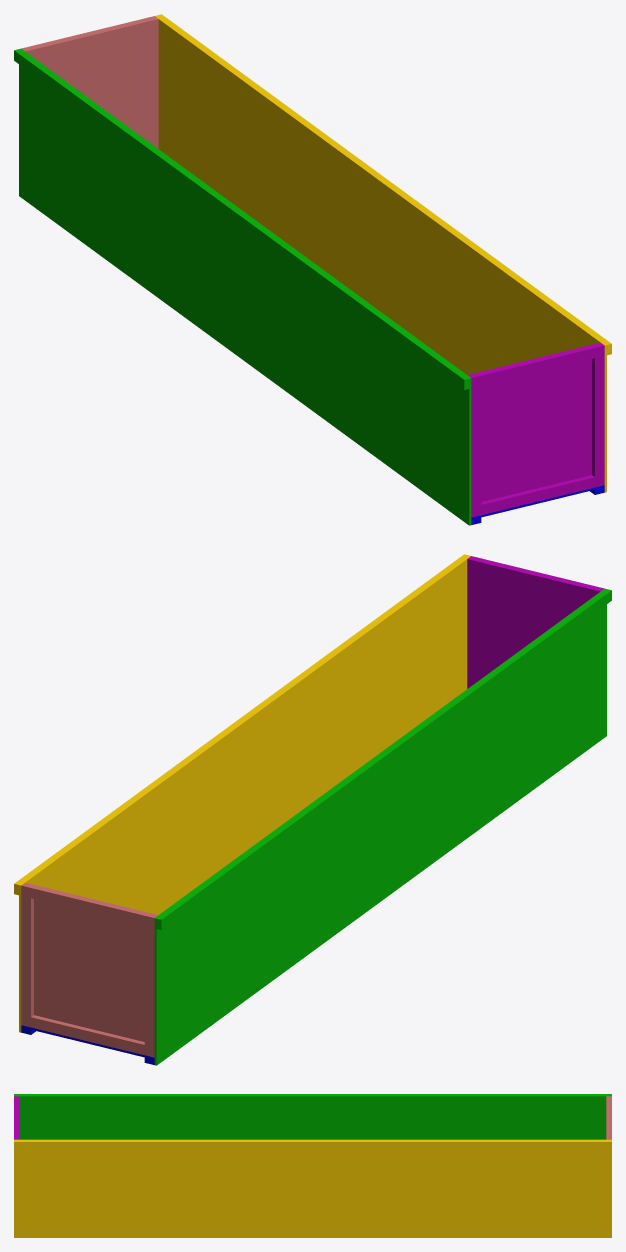
The model's file is result.glb.
The picture shows the model from 3 angles, top to bottom: view 1: azimuth 30°, elevation 25°; view 2: azimuth 150°, elevation 25°; view 3: azimuth 270°, elevation 25°; orthographic projection. The views are drawn at different scales.
Parts seen in each view (by area): view 1: a5babf72-4f94-4bd6-9314-292c80cc2d8f__Box_6, f35d0e03-8c7f-40fa-a3ba-40ca25d20984__undefined, ac00466e-6353-4683-809f-9e671f8c3dee__Box_3, 7d30f764-5a56-4318-8ccf-08a6dc339419__undefined, 5c006f0f-6798-488c-9844-6d198f663abe__Box_7, e6ee4b9f-f4d1-453d-b320-fbeb9c2b86a2__undefined, 4e8462fd-e7c6-48dd-b799-6964665ca2aa__undefined, ea412f99-45ef-413e-bafd-108302841f74__undefined, 5dc872ee-b59f-4509-a022-10c7cfca74c8__Box_4, 7202c053-bd6f-4e3b-b06b-29f82167b88a__Box_5; view 2: a5babf72-4f94-4bd6-9314-292c80cc2d8f__Box_6, f35d0e03-8c7f-40fa-a3ba-40ca25d20984__undefined, 7d30f764-5a56-4318-8ccf-08a6dc339419__undefined, ac00466e-6353-4683-809f-9e671f8c3dee__Box_3, 5c006f0f-6798-488c-9844-6d198f663abe__Box_7, e6ee4b9f-f4d1-453d-b320-fbeb9c2b86a2__undefined, fd49ab58-0d52-45c3-b04c-42a61ff41075__undefined, 04fffa90-0344-4b30-b187-5ccf53e57500__undefined, aa88636d-36b6-4454-bec6-9721f649a474__undefined, 4f06390d-bd0f-42b0-a8cd-d482f94bf87d__undefined; view 3: f35d0e03-8c7f-40fa-a3ba-40ca25d20984__undefined, a5babf72-4f94-4bd6-9314-292c80cc2d8f__Box_6, e6ee4b9f-f4d1-453d-b320-fbeb9c2b86a2__undefined, 5c006f0f-6798-488c-9844-6d198f663abe__Box_7.
Part boxes in pixels (left/top/right/bottom): a5babf72-4f94-4bd6-9314-292c80cc2d8f__Box_6: left=19, top=48, right=471, bottom=525; f35d0e03-8c7f-40fa-a3ba-40ca25d20984__undefined: left=155, top=15, right=606, bottom=492; ac00466e-6353-4683-809f-9e671f8c3dee__Box_3: left=467, top=342, right=601, bottom=501; 7d30f764-5a56-4318-8ccf-08a6dc339419__undefined: left=24, top=18, right=158, bottom=148; 5c006f0f-6798-488c-9844-6d198f663abe__Box_7: left=14, top=49, right=469, bottom=389; e6ee4b9f-f4d1-453d-b320-fbeb9c2b86a2__undefined: left=157, top=14, right=611, bottom=355; 4e8462fd-e7c6-48dd-b799-6964665ca2aa__undefined: left=592, top=343, right=604, bottom=487; ea412f99-45ef-413e-bafd-108302841f74__undefined: left=478, top=346, right=594, bottom=385; 5dc872ee-b59f-4509-a022-10c7cfca74c8__Box_4: left=469, top=373, right=481, bottom=517; 7202c053-bd6f-4e3b-b06b-29f82167b88a__Box_5: left=481, top=475, right=594, bottom=514; a5babf72-4f94-4bd6-9314-292c80cc2d8f__Box_6: left=154, top=588, right=606, bottom=1065; f35d0e03-8c7f-40fa-a3ba-40ca25d20984__undefined: left=19, top=555, right=470, bottom=1032; 7d30f764-5a56-4318-8ccf-08a6dc339419__undefined: left=24, top=882, right=158, bottom=1041; ac00466e-6353-4683-809f-9e671f8c3dee__Box_3: left=467, top=558, right=601, bottom=688; 5c006f0f-6798-488c-9844-6d198f663abe__Box_7: left=156, top=589, right=611, bottom=929; e6ee4b9f-f4d1-453d-b320-fbeb9c2b86a2__undefined: left=14, top=554, right=468, bottom=895; fd49ab58-0d52-45c3-b04c-42a61ff41075__undefined: left=21, top=883, right=33, bottom=1027; 04fffa90-0344-4b30-b187-5ccf53e57500__undefined: left=31, top=886, right=147, bottom=925; aa88636d-36b6-4454-bec6-9721f649a474__undefined: left=144, top=913, right=156, bottom=1057; 4f06390d-bd0f-42b0-a8cd-d482f94bf87d__undefined: left=31, top=1015, right=144, bottom=1054; f35d0e03-8c7f-40fa-a3ba-40ca25d20984__undefined: left=14, top=1139, right=611, bottom=1237; a5babf72-4f94-4bd6-9314-292c80cc2d8f__Box_6: left=14, top=1095, right=611, bottom=1139; e6ee4b9f-f4d1-453d-b320-fbeb9c2b86a2__undefined: left=14, top=1140, right=611, bottom=1148; 5c006f0f-6798-488c-9844-6d198f663abe__Box_7: left=14, top=1094, right=611, bottom=1095.
Size of the model in its own units: 554 by 527 by 2924.
